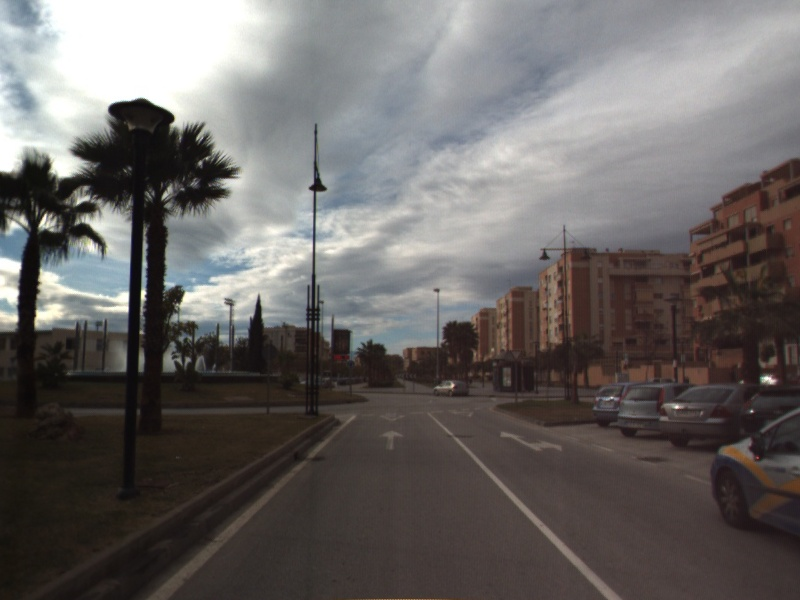STRAIGHT: (377, 428, 405, 452)
STRAIGHT_RIGHT: (498, 430, 563, 453)
